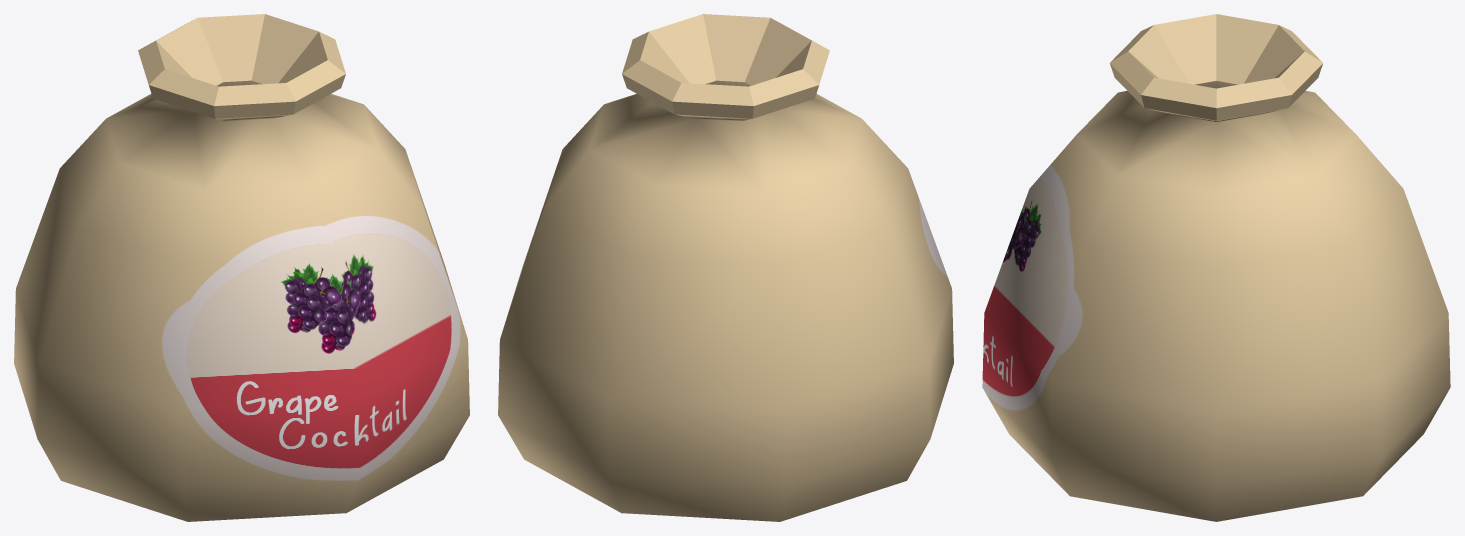
The model's file is Grape Cocktail.fbx.
3 views of the same model, side by side, from view 1: azimuth 30°, elevation 25°; view 2: azimuth 150°, elevation 25°; view 3: azimuth 270°, elevation 25° (orthographic).
Visible parts, largest first — view 1: Grape Bag; view 2: Grape Bag; view 3: Grape Bag.
Part boxes in pixels (bbox=[...]): Grape Bag: bbox=[14, 14, 469, 521]; Grape Bag: bbox=[498, 14, 953, 521]; Grape Bag: bbox=[982, 14, 1450, 521].
Size of the model in its own units: 0.1764 by 0.1592 by 0.1764.
